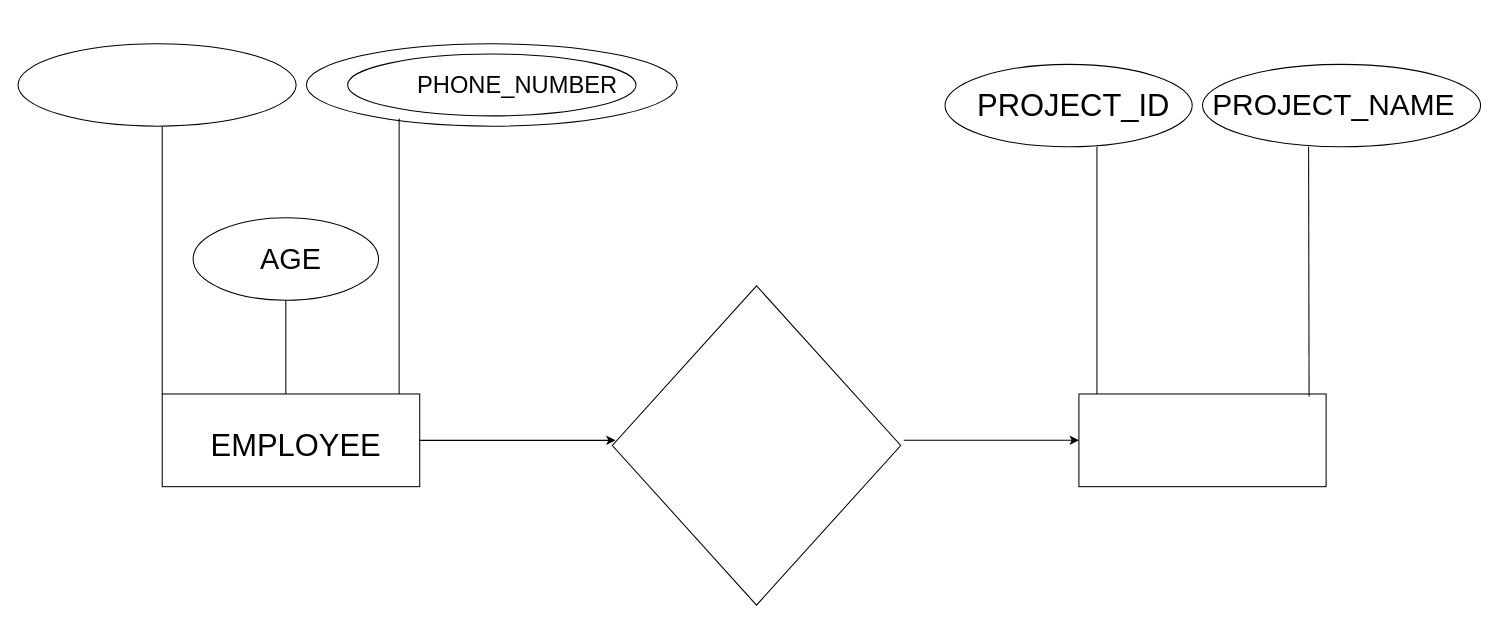
This 1499x623 diagram has some shape labels left out. Each missing label, with the centre of its shape:
"EMPLOYEE_ID" belongs at point 156,84.
"PROJECT" belongs at point 1202,440.
"WORKS ON" belongs at point 756,445.
